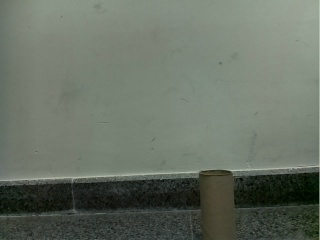rollo papel: (198, 171, 235, 240)
